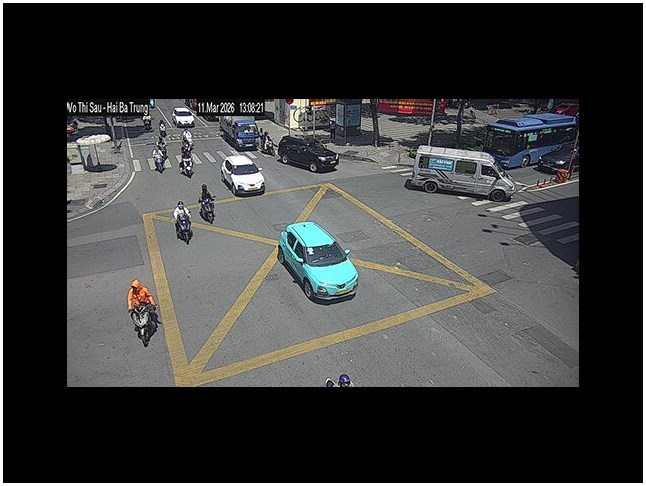bus: (483, 112, 578, 170)
car: (278, 220, 361, 304), (406, 146, 520, 202), (276, 134, 339, 173), (220, 154, 266, 196), (219, 116, 262, 152), (173, 106, 195, 127)
truck: (405, 145, 518, 201)
